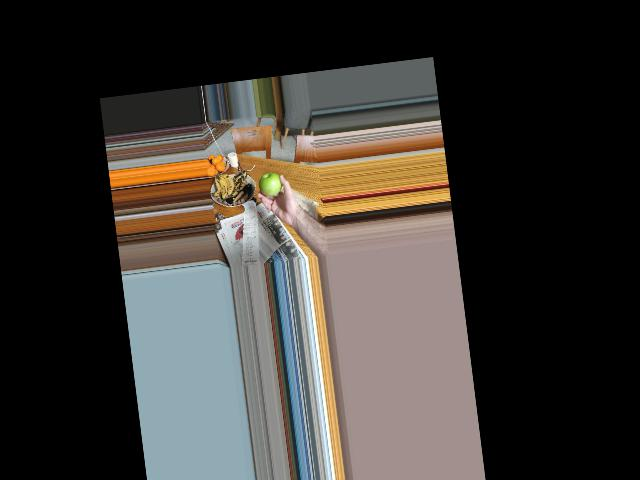apple: (260, 171, 283, 196)
